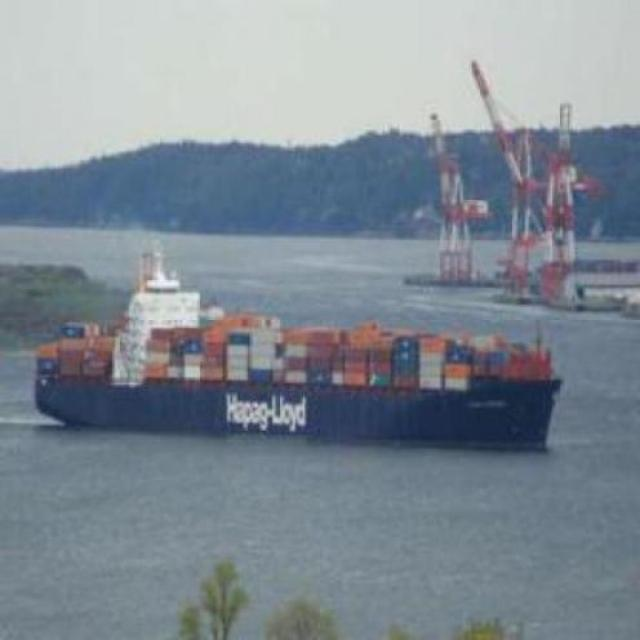boat: (26, 300, 577, 454)
